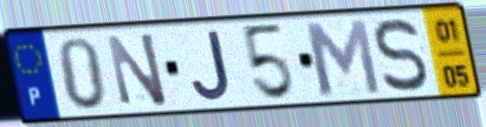0: (54, 35, 110, 112)
5: (237, 21, 299, 103)
J: (190, 28, 235, 103)
M: (300, 16, 385, 99)
N: (103, 29, 171, 109)
S: (372, 15, 431, 94)
